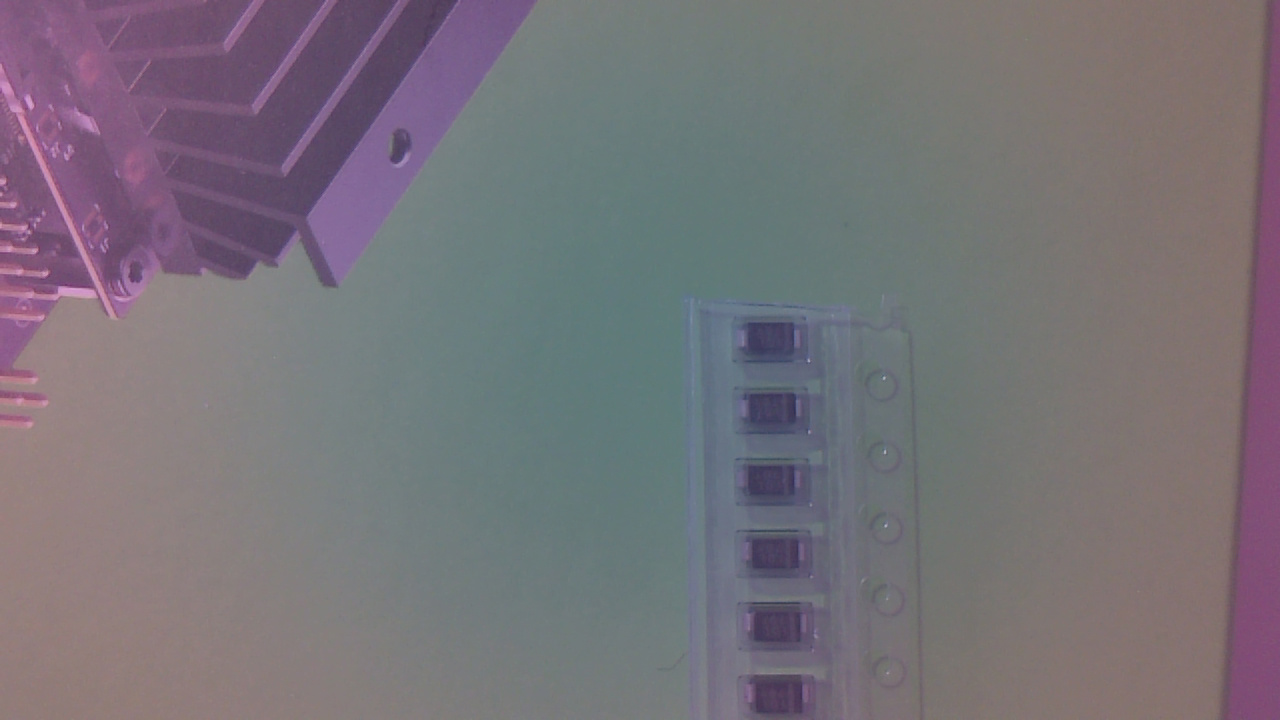Diode: (748, 610, 816, 648), (742, 465, 808, 503), (739, 396, 811, 429), (745, 540, 813, 574), (742, 326, 807, 361), (750, 684, 815, 719)
